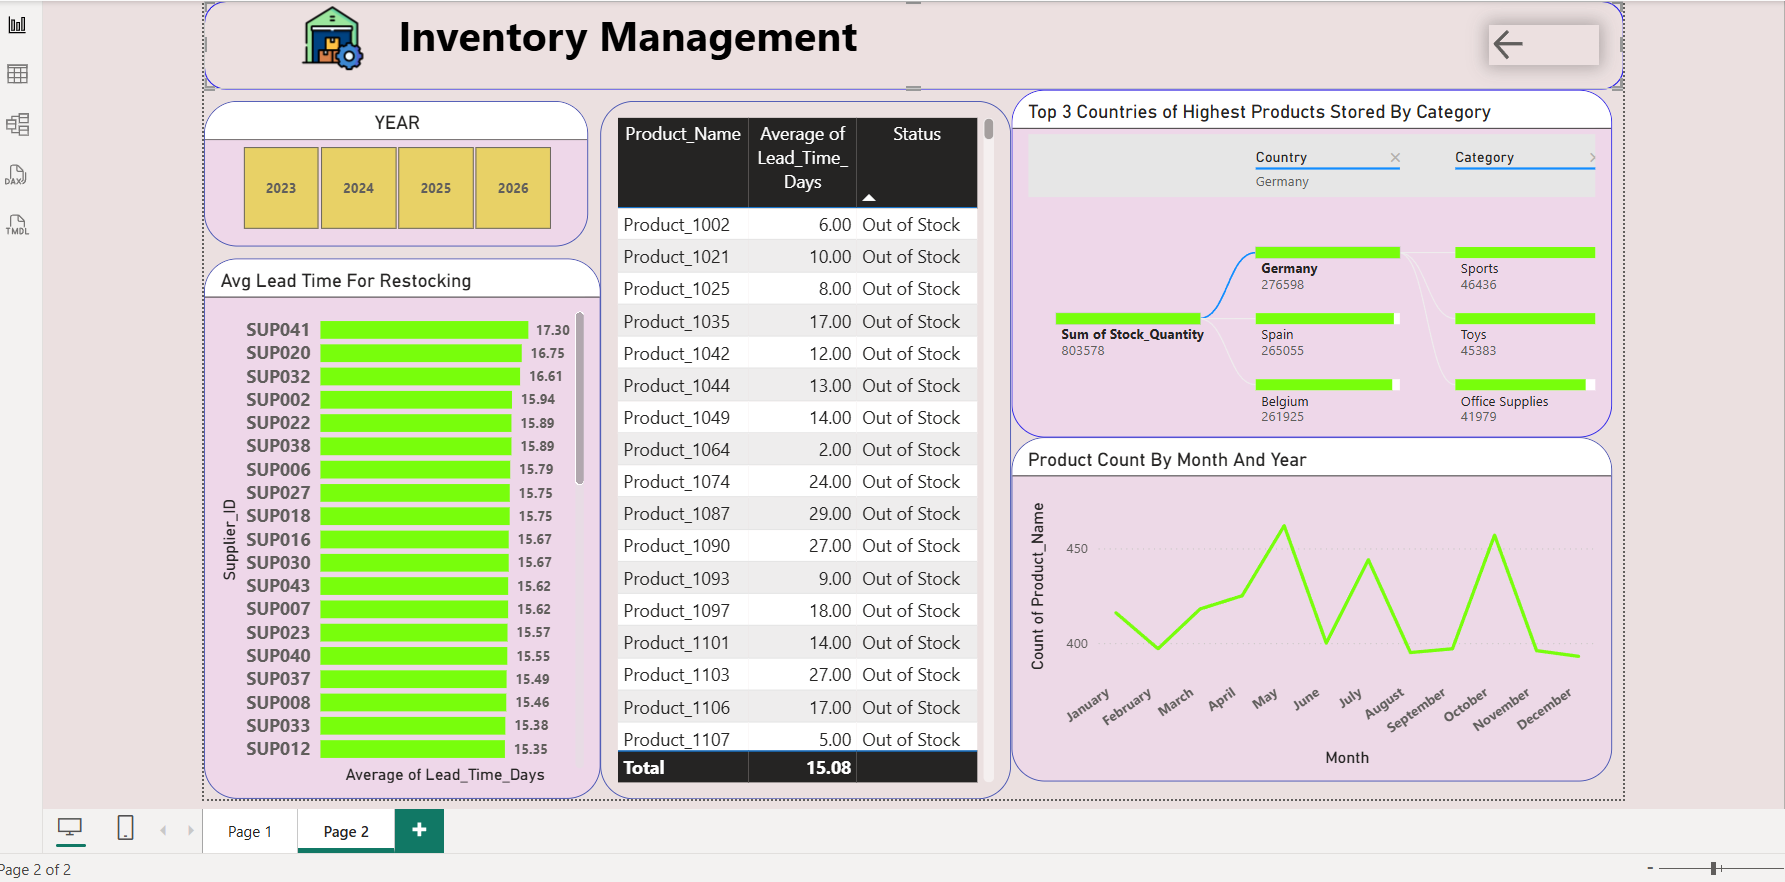

The dashboard page shown, as its layout file describes it:
{"tool":"powerbi","page":{"name":"Page 2","canvas":[1280,720],"ordinal":1},"visuals":[{"type":"barChart","title":"Avg Lead Time For Restocking","fields":{"Category":["Inventory Management.Supplier_ID"],"Y":["Avg(Inventory Management.Lead_Time_Days)"]},"box":[0,232,357.7,487.5],"z":0},{"type":"tableEx","fields":{"Values":["Inventory Management.Product_Name","Avg(Inventory Management.Lead_Time_Days)","Inventory Management.Status"]},"box":[357.7,89.8,370.1,629.8],"z":1000},{"type":"shape","box":[0,0,1280.3,80.1],"z":2000,"group":"g1"},{"type":"lineChart","title":"Product Count By Month And Year","fields":{"Y":["CountNonNull(Inventory Management.Product_Name)"],"Category":["Inventory Management.Last_Restock_Date.Variation.Date Hierarchy.Month"]},"box":[727.8,393.6,541.4,310.7],"z":2000},{"type":"textbox","box":[0,0,774.8,73.2],"z":3000,"group":"g1"},{"type":"decompositionTreeVisual","title":"Top 3 Countries of Highest Products Stored By Category","fields":{"Analyze":["Sum(Inventory Management.Stock_Quantity)"],"ExplainBy":["Inventory Management.Country","Inventory Management.Category"]},"box":[727.8,80.1,541.4,313.5],"z":3000},{"type":"group","id":"g1","title":"Group 2","box":[0,0,1280.3,80.1],"z":4000},{"type":"actionButton","box":[1158.7,20.9,99.4,36],"z":4002,"group":"g1"},{"type":"image","box":[0,0,232,67.7],"z":5000},{"type":"slicer","title":"YEAR","fields":{"Values":["Inventory Management.Last_Restock_Date.Variation.Date Hierarchy.Year"]},"box":[0,89.8,346.7,131.2],"z":6000}]}

Visuals, with their boxes on the page's 1280x720 design canvas (x1, y1, x2, y2). These are canvas units, not pixel positions in the 1785x882 screenshot, which may show the page scaled, cropped or inside an application window:
"Avg Lead Time For Restocking" barChart: {"left": 0, "top": 232, "right": 358, "bottom": 720}
tableEx - Inventory Management.Product_Name x Avg(Inventory Management.Lead_Time_Days): {"left": 358, "top": 90, "right": 728, "bottom": 720}
shape: {"left": 0, "top": 0, "right": 1280, "bottom": 80}
"Product Count By Month And Year" lineChart: {"left": 728, "top": 394, "right": 1269, "bottom": 704}
textbox: {"left": 0, "top": 0, "right": 775, "bottom": 73}
"Top 3 Countries of Highest Products Stored By Category" decompositionTreeVisual: {"left": 728, "top": 80, "right": 1269, "bottom": 394}
"Group 2" group: {"left": 0, "top": 0, "right": 1280, "bottom": 80}
actionButton: {"left": 1159, "top": 21, "right": 1258, "bottom": 57}
image: {"left": 0, "top": 0, "right": 232, "bottom": 68}
"YEAR" slicer: {"left": 0, "top": 90, "right": 347, "bottom": 221}
